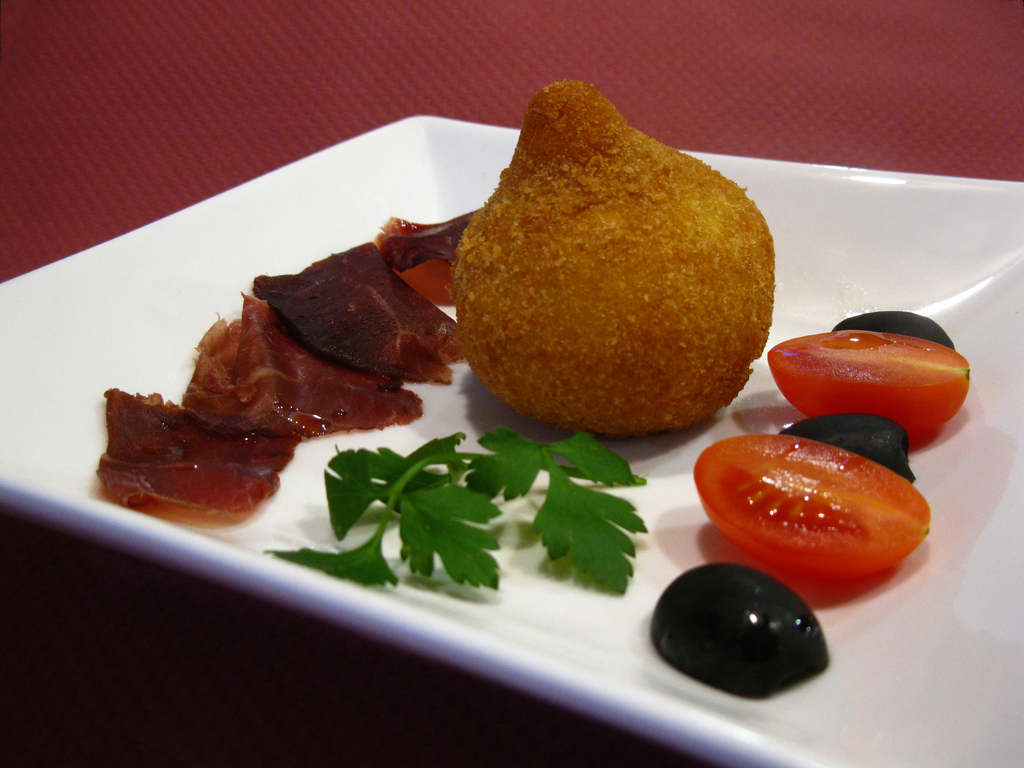Tomato: (677, 432, 939, 586), (768, 330, 968, 442)
